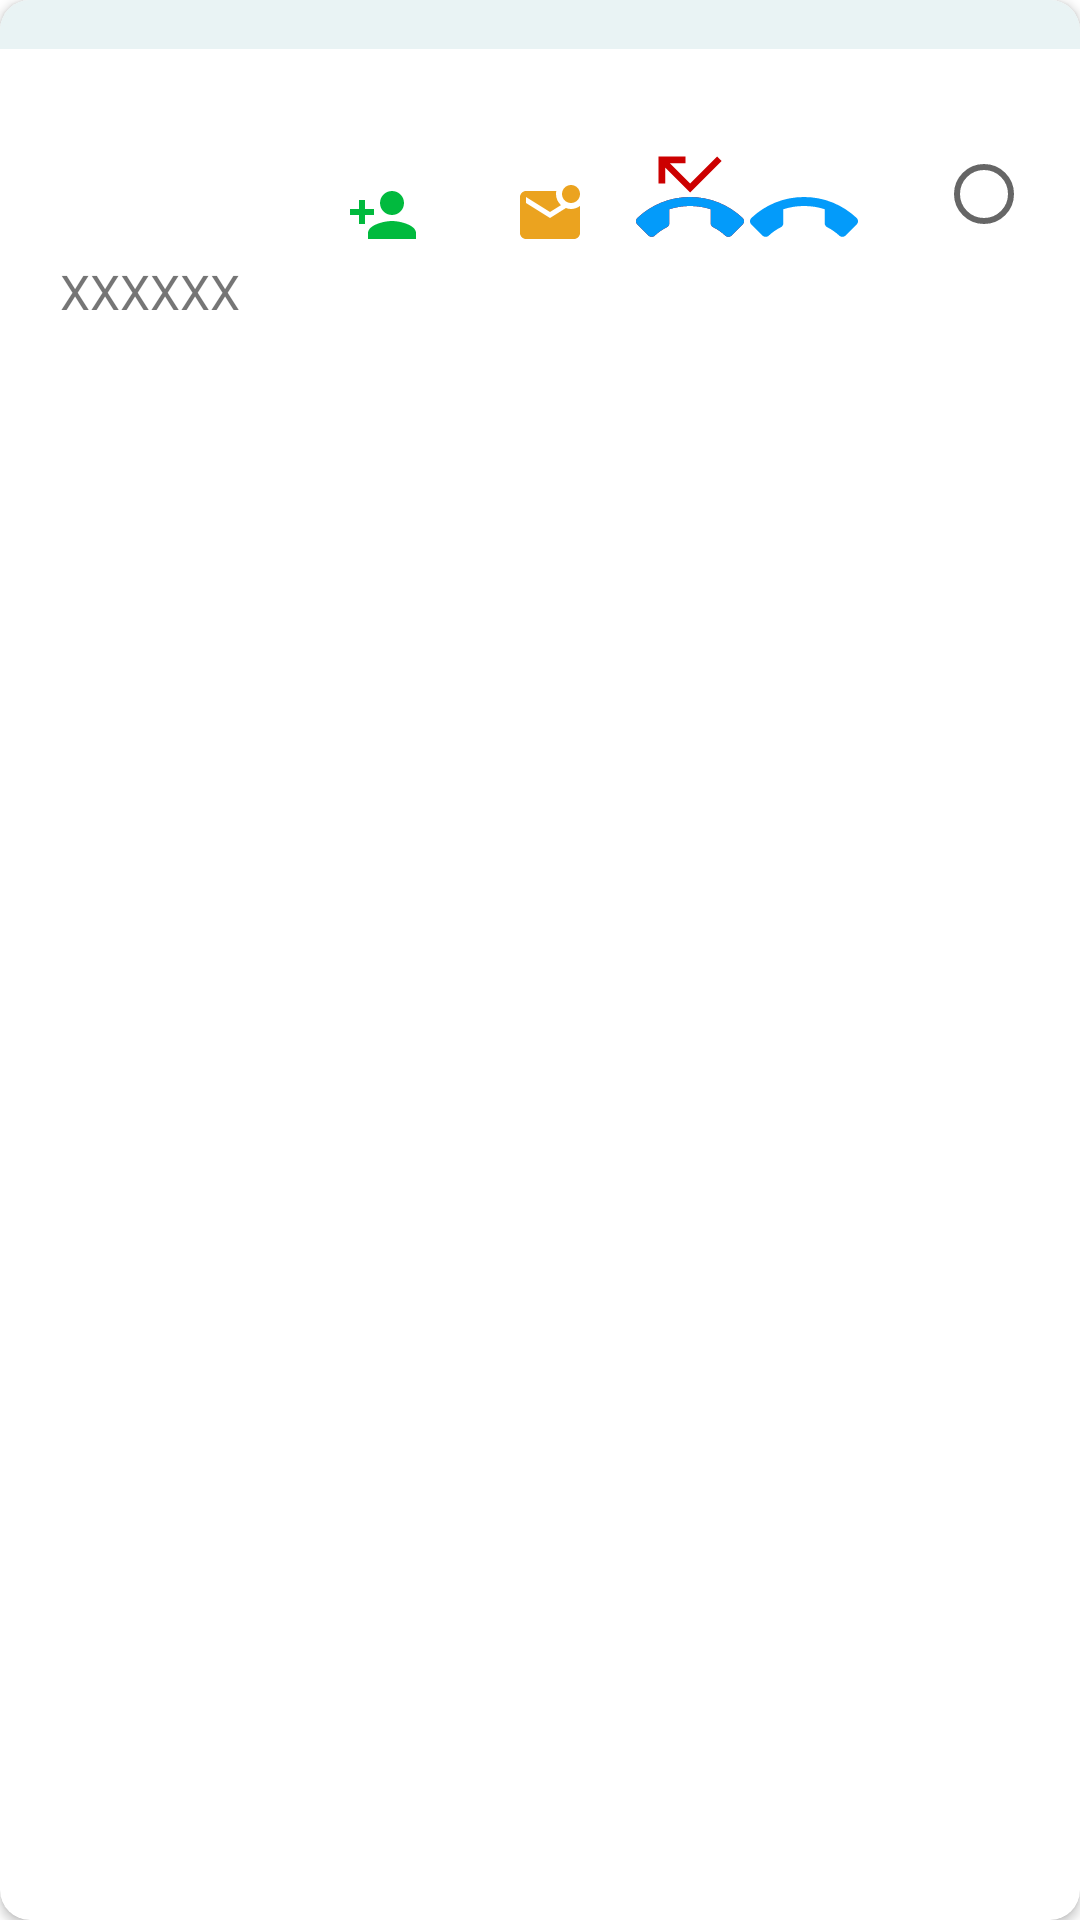

Icons on this 1080x1920 Android screen, each with the point to tap as point (x, y):
mark email unread: point (550, 212)
person add: point (383, 215)
